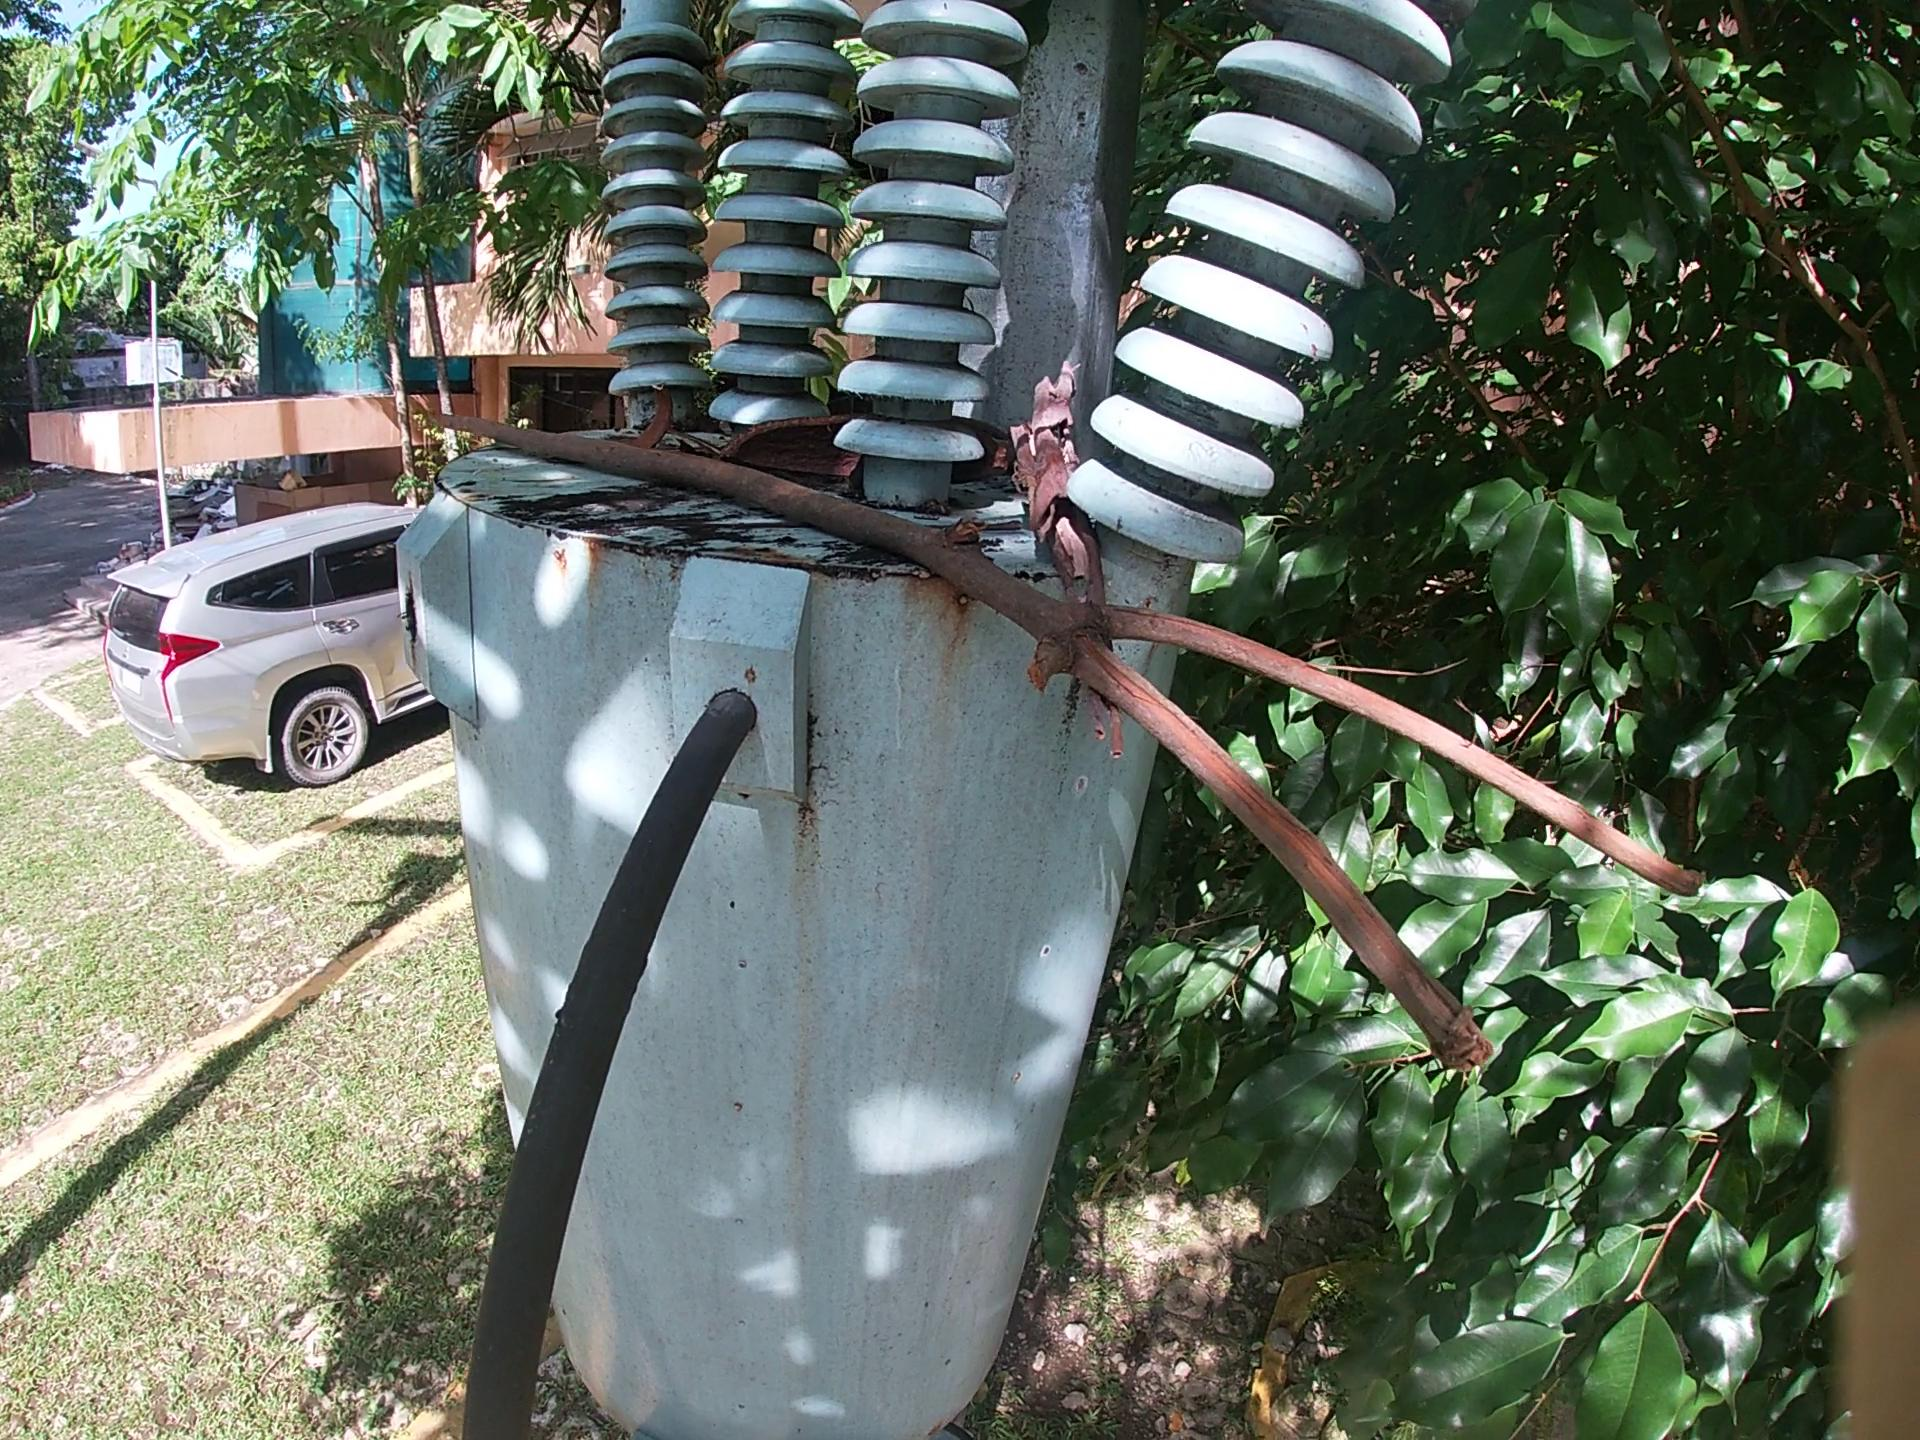mahogany fruit: (703, 427, 865, 472), (624, 384, 703, 446), (949, 417, 1011, 479)
tree branch: (426, 408, 1740, 1109), (999, 366, 1137, 774)
